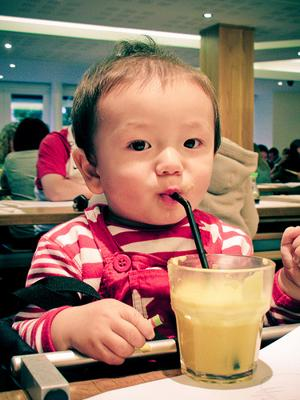person: (12, 38, 300, 367)
